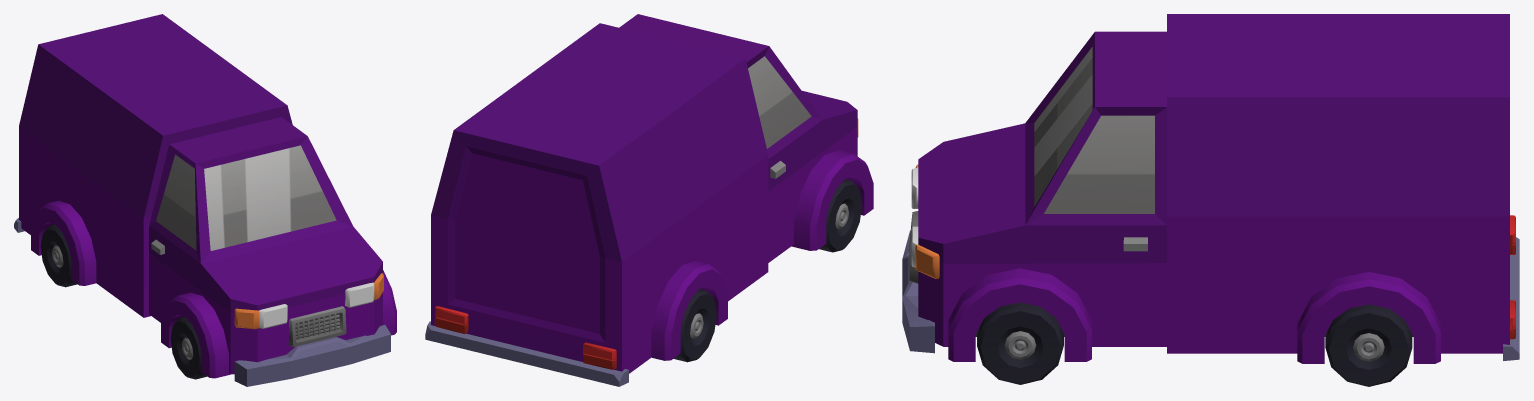
The model's file is Van_15.fbx.
The picture shows the model from 3 angles, left to right: view 1: azimuth 30°, elevation 25°; view 2: azimuth 150°, elevation 25°; view 3: azimuth 270°, elevation 25°; orthographic projection. The views are drawn at different scales.
Parts seen in each view (by area): view 1: Van_15, wheel_FR, wheel_BR; view 2: Van_15, wheel_BR, wheel_FR; view 3: Van_15, wheel_BL, wheel_FL.
Boxes of the visible parts, x1,y1,x2,y2 form: Van_15: (14, 14, 396, 386); wheel_FR: (170, 317, 207, 379); wheel_BR: (40, 224, 77, 287); Van_15: (425, 14, 873, 386); wheel_BR: (673, 289, 716, 362); wheel_FR: (819, 179, 861, 252); Van_15: (902, 14, 1519, 363); wheel_BL: (1325, 304, 1412, 386); wheel_FL: (977, 302, 1063, 384).
Size of the model in its own units: 123 by 119 by 248.
